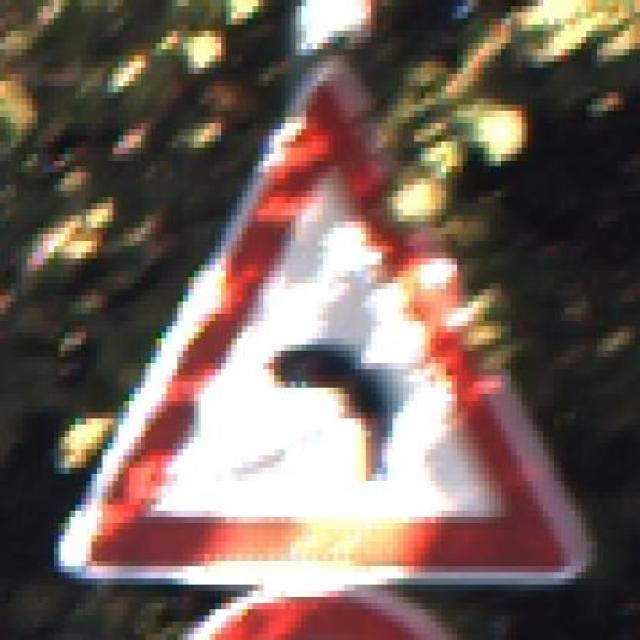Dangerous Left Curve Ahead: (61, 49, 588, 596)
